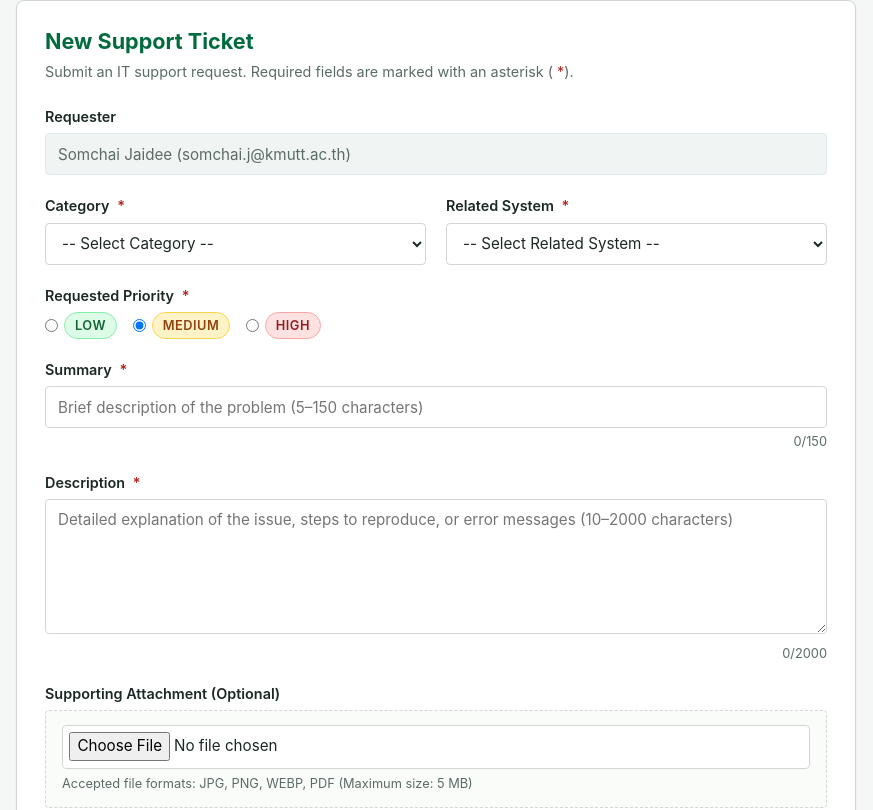
Test case: Create Ticket UI & Validation (Issue 6) › UI-03: Client-Side Validation (AC-02, AC-03) › UI-03: displays inline errors when category or related system is not selected
The width and height of the screenshot is (873, 810).
Type "Valid Ticket Summary" into the field labelled "Summary *" at (436, 408), box [45, 386, 827, 428]
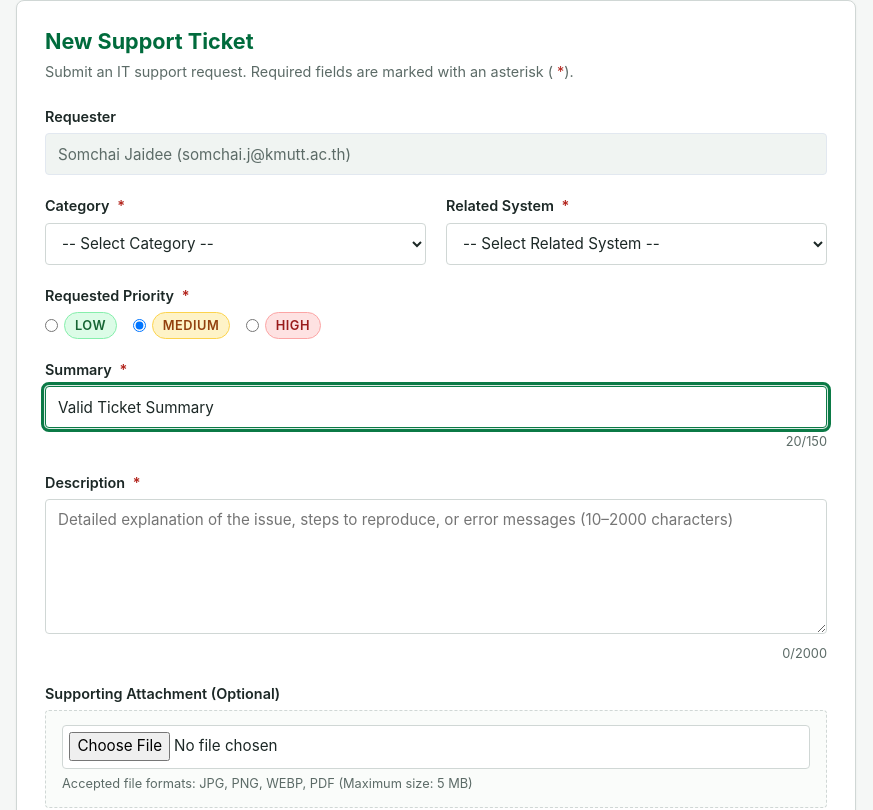
Type "Valid description with over 10 chars" into the text box labelled "Description *" at (436, 566), box [45, 499, 827, 634]
(page scrolled)
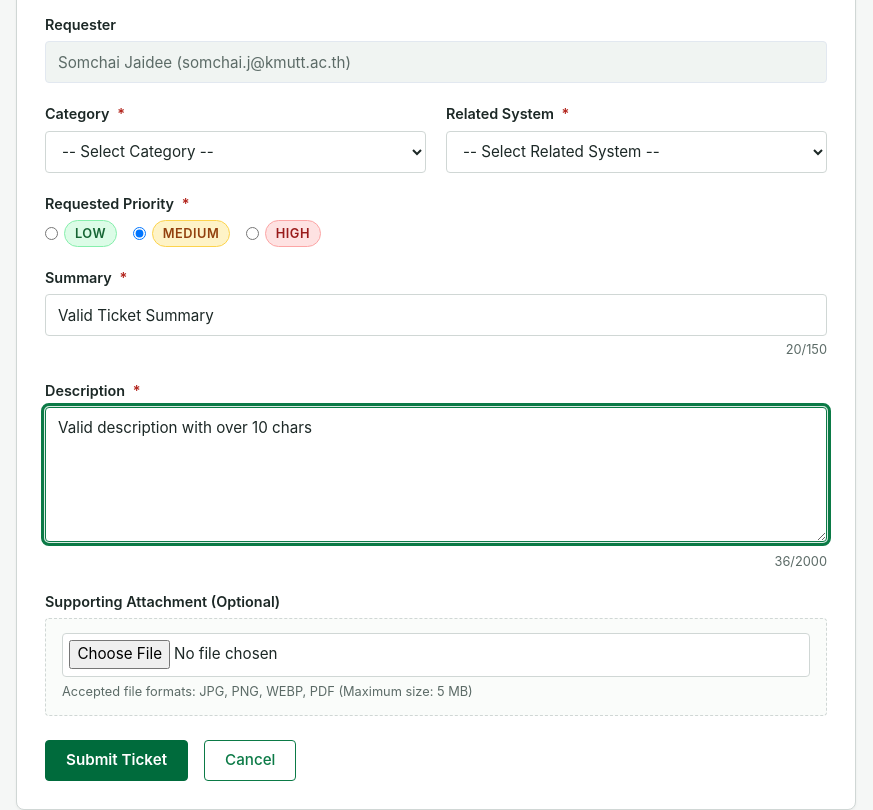
Click the button "Submit Ticket" at (116, 760), box [45, 740, 188, 781]
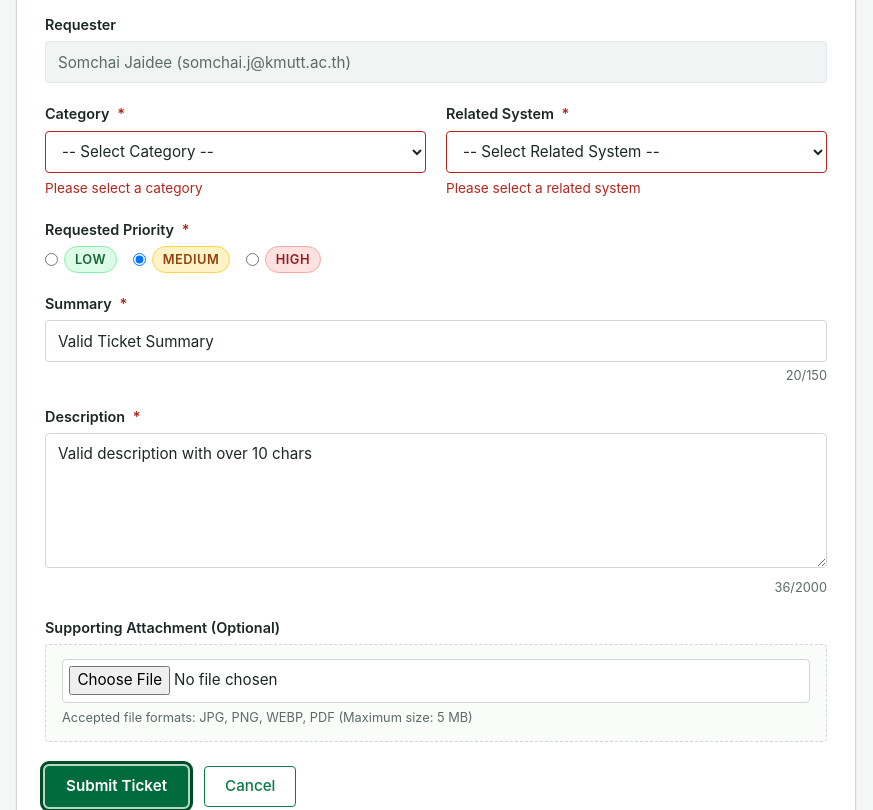
Expected: the text "Please select a category" is shown, [45, 180, 203, 196]
Expected: the text "Please select a related system" is shown, [446, 180, 641, 196]
